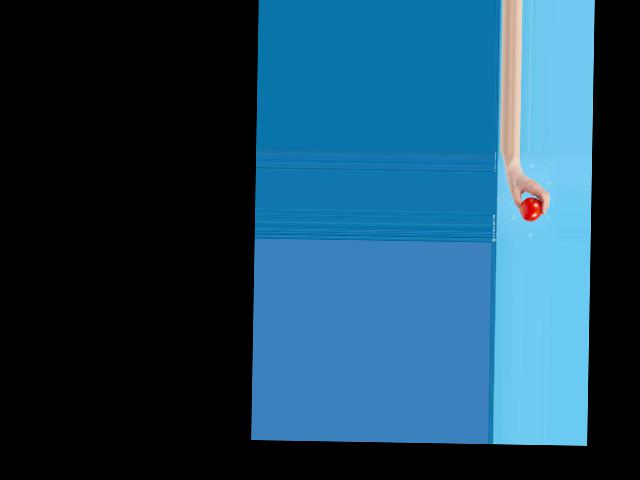tomato: (520, 197, 542, 221)
